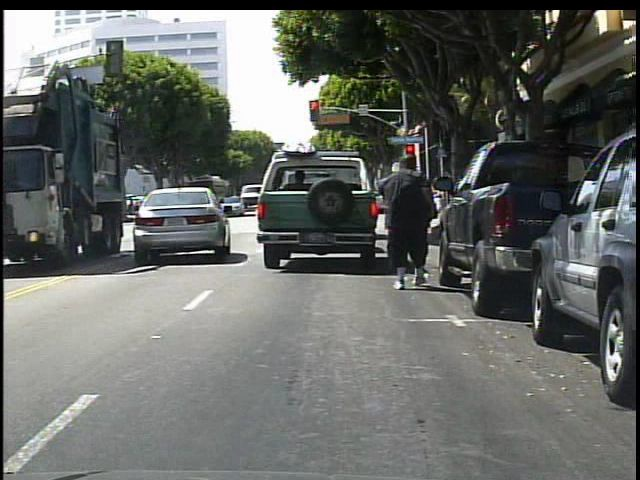person: (381, 153, 439, 290)
